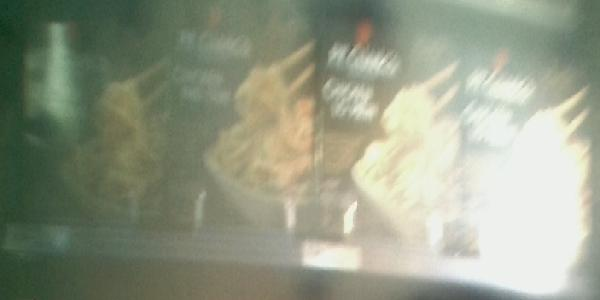pizza1: (162, 5, 323, 238), (323, 17, 466, 262), (18, 17, 167, 231), (460, 46, 591, 283)
